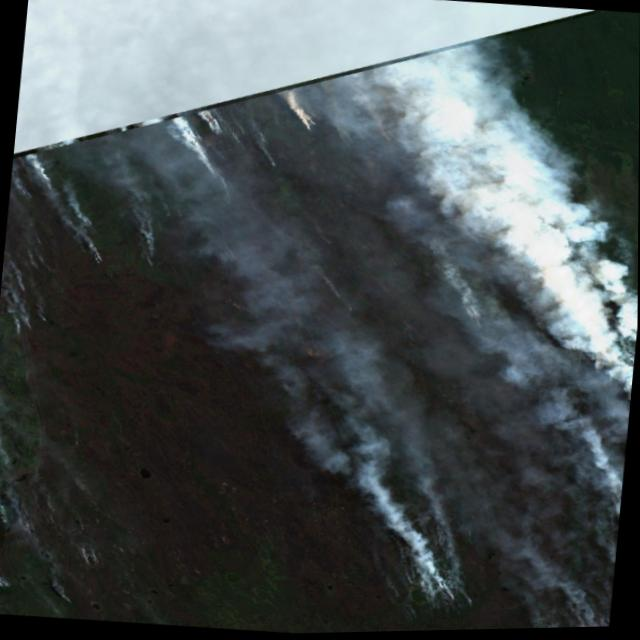fire: (176, 114, 273, 170), (392, 577, 476, 615), (46, 586, 89, 611), (10, 505, 37, 542), (293, 108, 325, 137), (462, 309, 494, 334), (69, 478, 96, 504), (77, 553, 108, 575), (81, 249, 110, 271), (327, 288, 356, 305), (0, 563, 12, 594)
